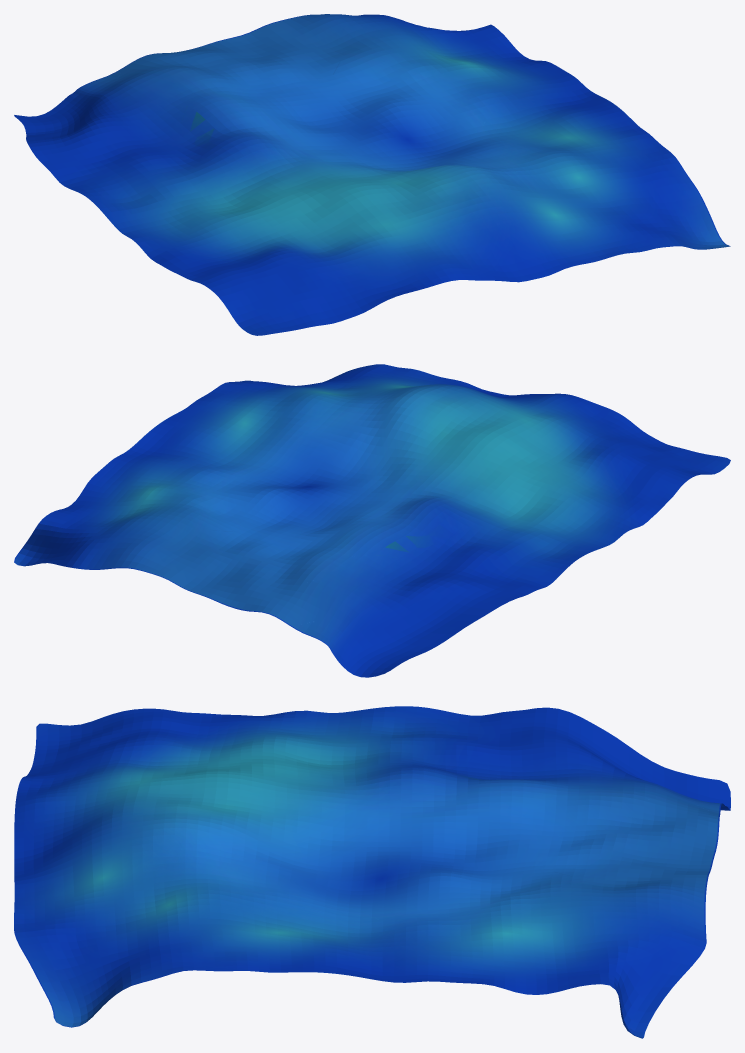
The model's file is water.glb.
3 views of the same model, one above another, from view 1: azimuth 30°, elevation 25°; view 2: azimuth 150°, elevation 25°; view 3: azimuth 270°, elevation 25° (orthographic). The views are drawn at different scales.
Parts seen in each view (by area): view 1: Plane.002; view 2: Plane.002; view 3: Plane.002.
Part boxes in pixels (<box>): Plane.002: <box>14,14,730,335</box>; Plane.002: <box>14,364,730,677</box>; Plane.002: <box>14,706,730,1038</box>.
Size of the model in its own units: 63.62 by 10.15 by 69.19.
1 material, 1 textured.
